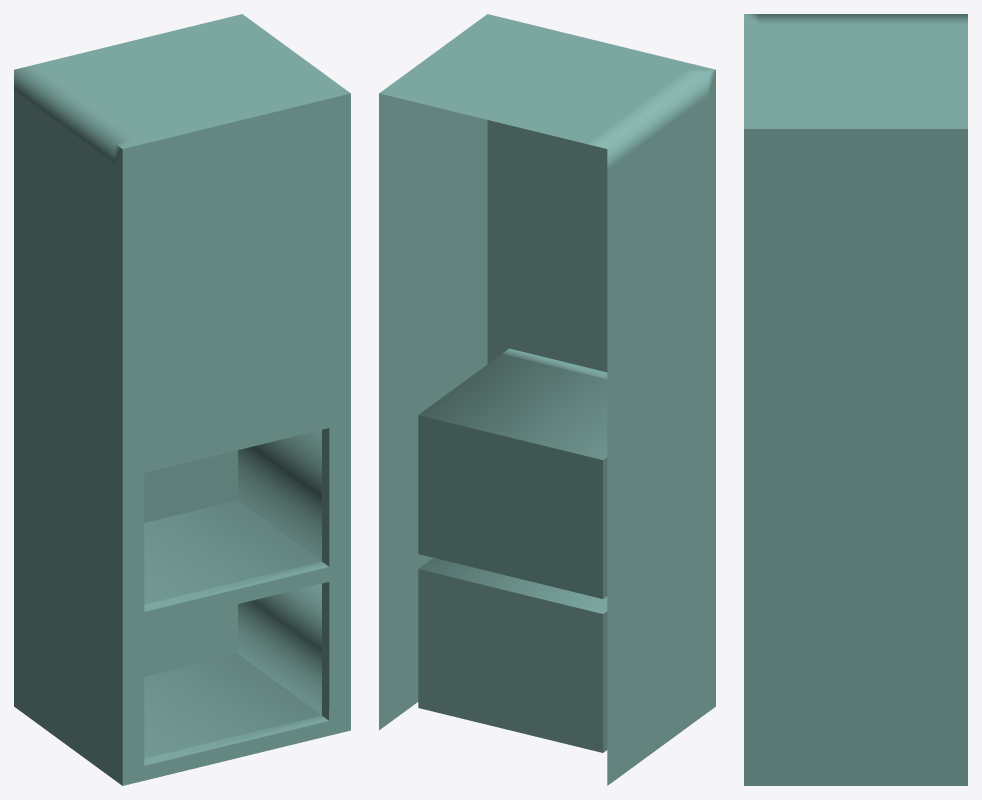
File: MSH_QuestObject_cabinet_01.fbx
The picture shows the model from 3 angles, left to right: view 1: azimuth 30°, elevation 25°; view 2: azimuth 150°, elevation 25°; view 3: azimuth 270°, elevation 25°; orthographic projection. The views are drawn at different scales.
Visible parts, largest first — view 1: MSH_QuestObject_cabinet_01; view 2: MSH_QuestObject_cabinet_01; view 3: MSH_QuestObject_cabinet_01.
Part boxes in pixels (bbox=[...]): MSH_QuestObject_cabinet_01: bbox=[14, 14, 350, 785]; MSH_QuestObject_cabinet_01: bbox=[379, 14, 715, 785]; MSH_QuestObject_cabinet_01: bbox=[744, 14, 967, 785].
Size of the model in its own units: 1.12 by 2.98 by 0.9205.
